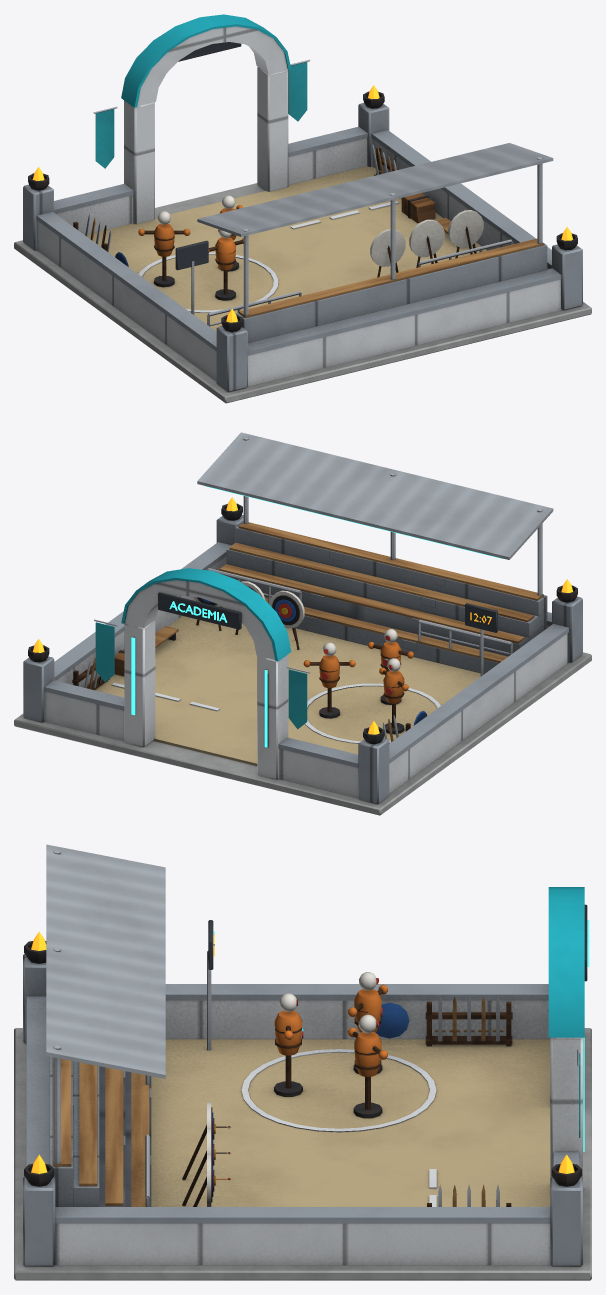
The model's file is academia_entrenamiento.fbx.
The picture shows the model from 3 angles, top to bottom: view 1: azimuth 30°, elevation 25°; view 2: azimuth 150°, elevation 25°; view 3: azimuth 270°, elevation 25°; orthographic projection. The views are drawn at different scales.
Visible parts, largest first — view 1: academia_entrenamiento, academia_entrenamiento_estandartes; view 2: academia_entrenamiento, academia_entrenamiento_estandartes, academia_entrenamiento_neon, academia_entrenamiento_naranja_neon; view 3: academia_entrenamiento, academia_entrenamiento_naranja_neon.
Boxes of the visible parts, x1,y1,x2,y2 form: academia_entrenamiento: (14, 14, 591, 403); academia_entrenamiento_estandartes: (95, 62, 307, 168); academia_entrenamiento: (14, 432, 591, 815); academia_entrenamiento_estandartes: (95, 622, 307, 729); academia_entrenamiento_neon: (131, 486, 502, 747); academia_entrenamiento_naranja_neon: (33, 497, 573, 734); academia_entrenamiento: (14, 844, 591, 1280); academia_entrenamiento_naranja_neon: (31, 931, 574, 1173).
Size of the model in its own units: 16 by 7.87 by 16.
2 materials, 2 textured.
